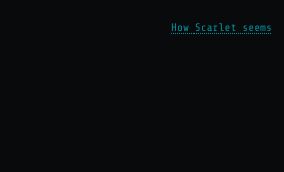
it: emotions flag on › MoodWhyPanel is prose from the phrase table, never server free text
Click the button with test id "mood-chip".
click(222, 28)  # box [171,12,272,44]
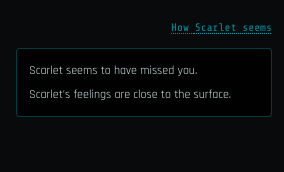
Expected: the element with test id "mood-why-panel" shows "Scarlet seems to have missed you.", [29,63,197,78]
